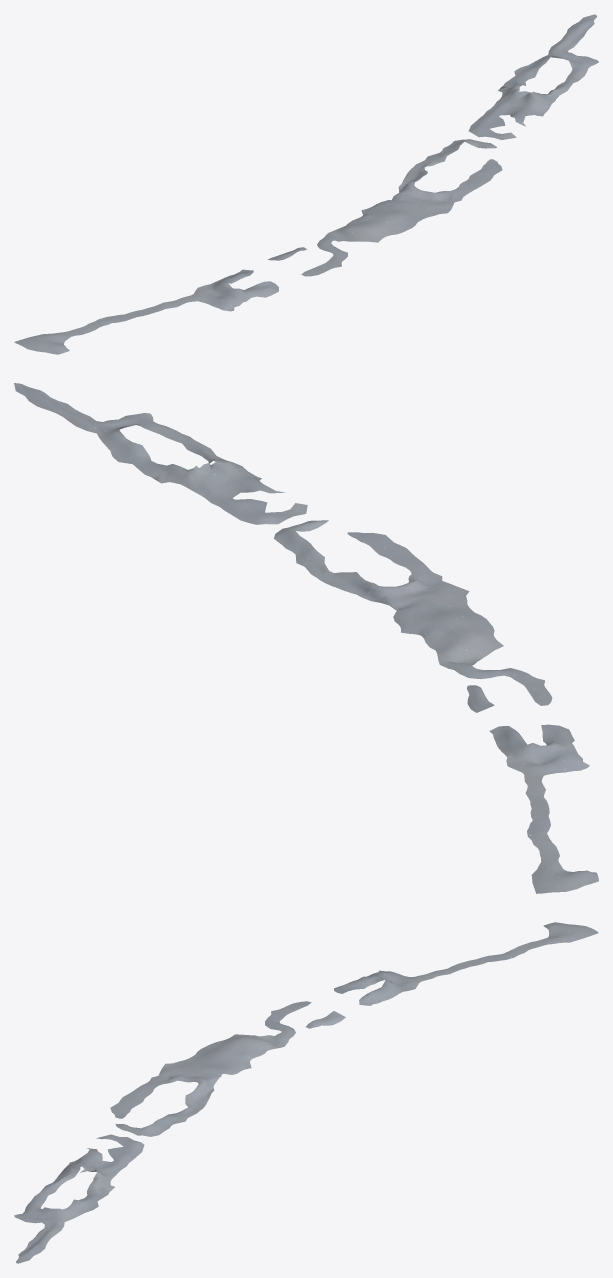
The model's file is pref_sm_beach_winter_blocksnow07_lv3.fbx.
The picture shows the model from 3 angles, top to bottom: view 1: azimuth 90°, elevation 25°; view 2: azimuth 150°, elevation 25°; view 3: azimuth 270°, elevation 25°; orthographic projection. The views are drawn at different scales.
Visible parts, largest first — view 1: pref_sm_beach_winter_blocksnow07_lv3; view 2: pref_sm_beach_winter_blocksnow07_lv3; view 3: pref_sm_beach_winter_blocksnow07_lv3.
Boxes of the visible parts, x1,y1,x2,y2 form: pref_sm_beach_winter_blocksnow07_lv3: (14,14,598,354); pref_sm_beach_winter_blocksnow07_lv3: (14,383,598,893); pref_sm_beach_winter_blocksnow07_lv3: (14,922,598,1263).
Size of the model in its own units: 41.85 by 0.7302 by 30.33.
